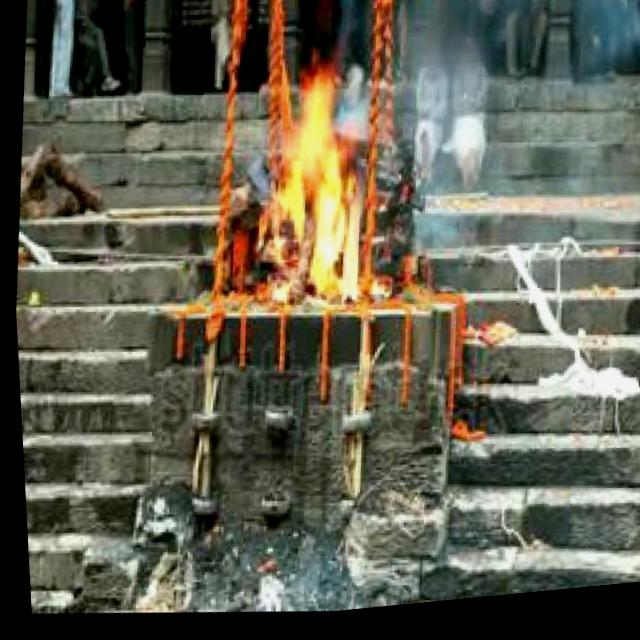helmet: (246, 57, 385, 319)
